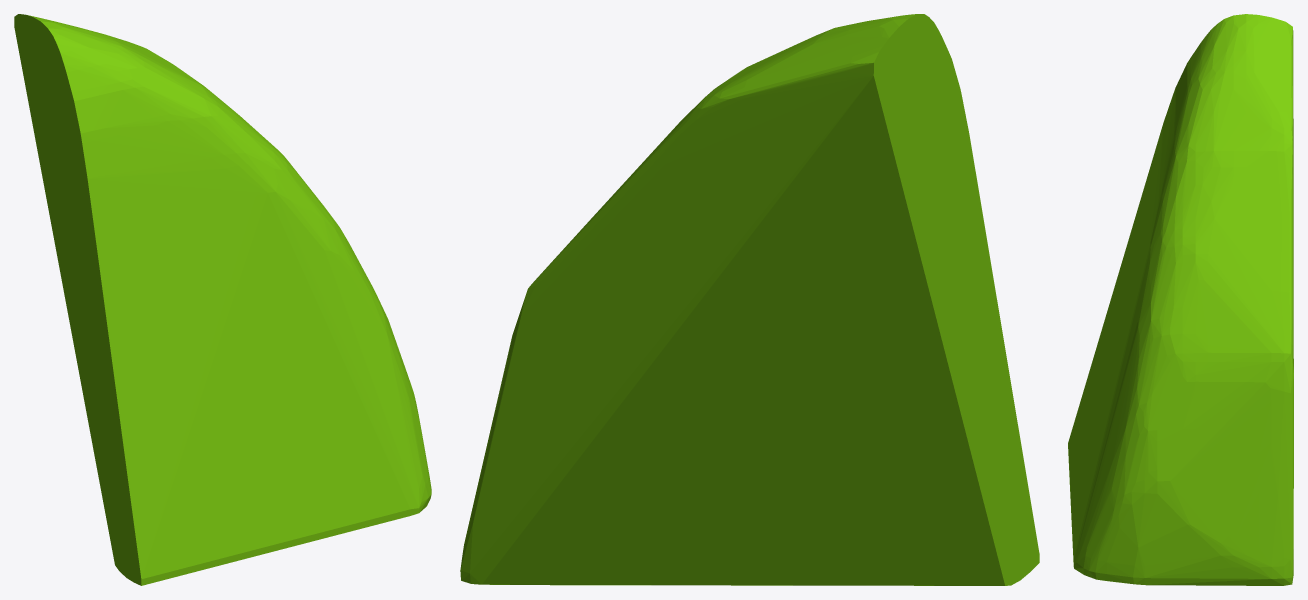
Rendered from left-shoulder-roll-0_part_4.obj.
3 views of the same model, side by side, from view 1: azimuth 30°, elevation 25°; view 2: azimuth 150°, elevation 25°; view 3: azimuth 270°, elevation 25° (orthographic). The views are drawn at different scales.
Bounding box in the file's own units: 0.024 × 0.0353 × 0.0165.
